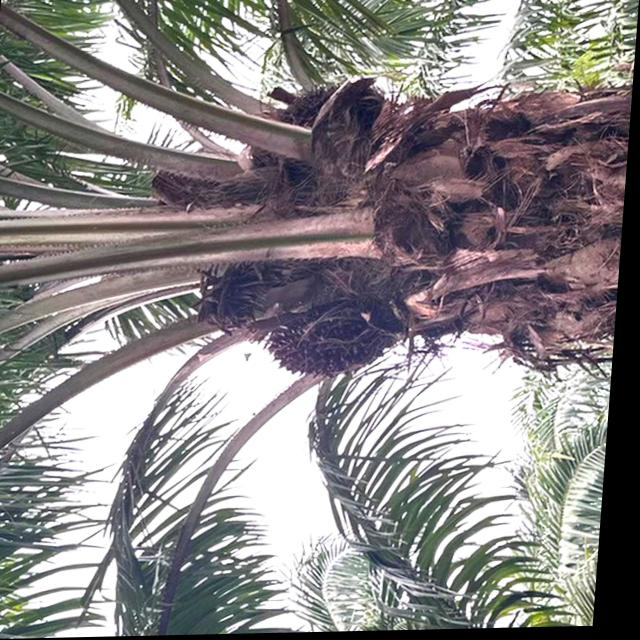ripe: (265, 310, 406, 388)
